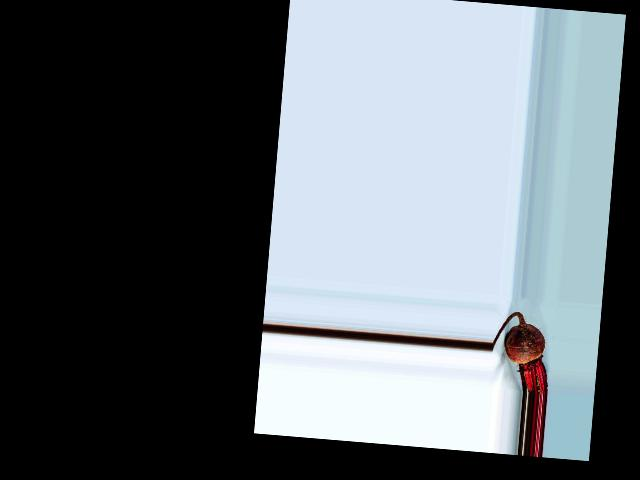beet: (489, 310, 554, 394)
